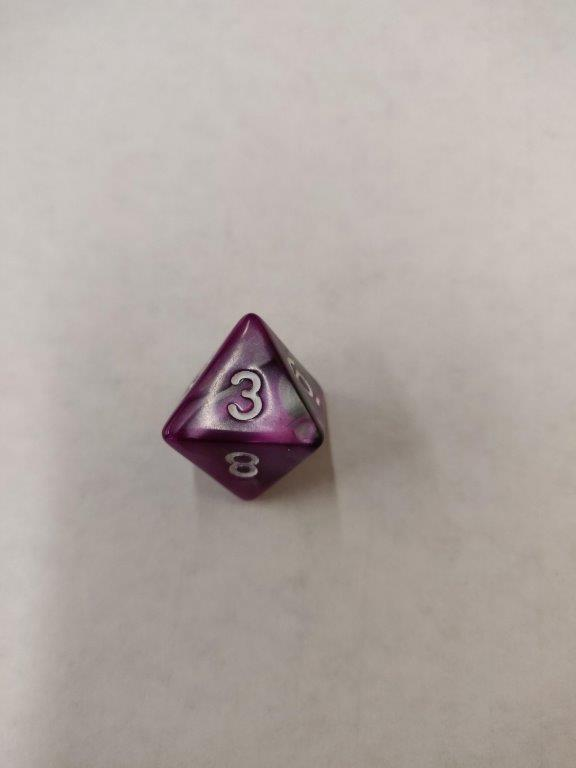d8-3: (159, 312, 332, 505)
